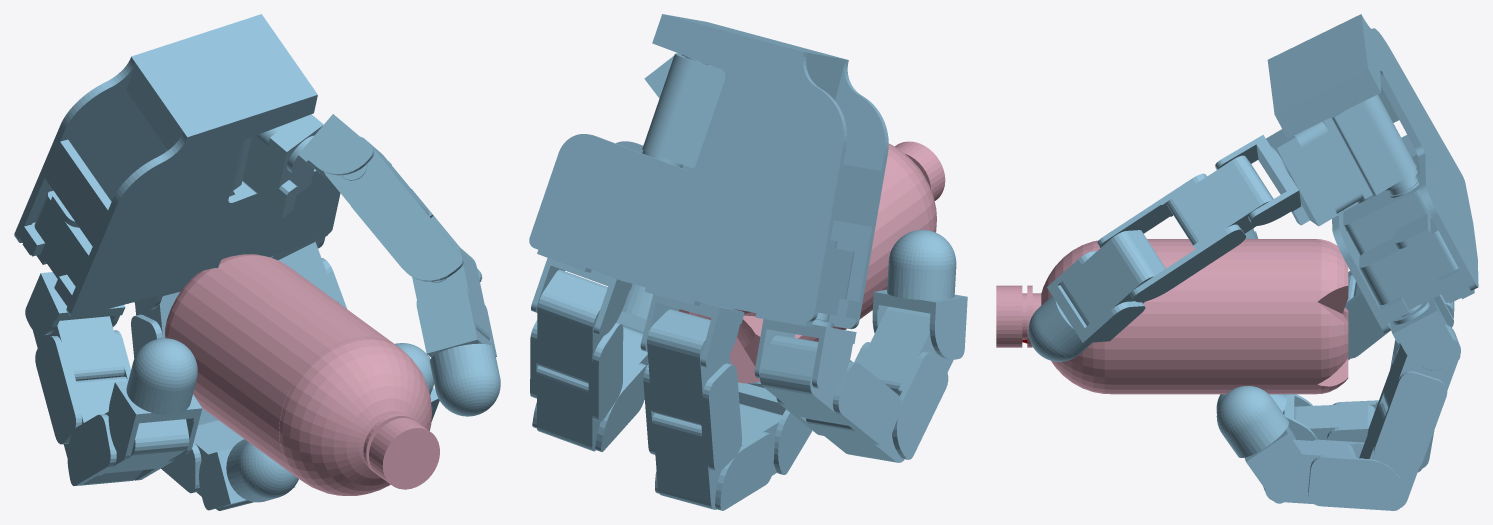
The picture shows the model from 3 angles, left to right: view 1: azimuth 30°, elevation 25°; view 2: azimuth 150°, elevation 25°; view 3: azimuth 270°, elevation 25°; orthographic projection. The views are drawn at different scales.
Visible parts, largest first — view 1: world, water_bottle.stl; view 2: world, water_bottle.stl; view 3: world, water_bottle.stl.
Part boxes in pixels (x1=…): world: x1=14, y1=14, x2=500, y2=510; water_bottle.stl: x1=165, y1=254, x2=439, y2=495; world: x1=529, y1=14, x2=967, y2=510; water_bottle.stl: x1=679, y1=141, x2=945, y2=383; world: x1=1022, y1=14, x2=1478, y2=510; water_bottle.stl: x1=996, y1=239, x2=1348, y2=394.
Size of the model in its own units: 0.1403 by 0.1809 by 0.187.
